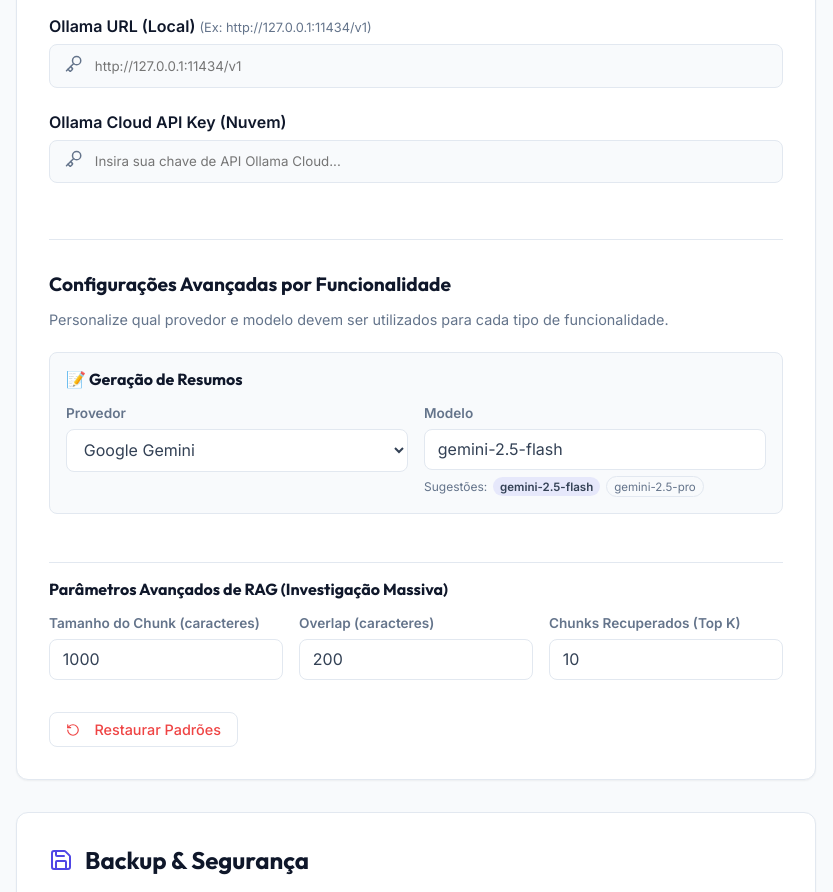
it: SettingsPage › pre-fills a current Claude model when a skill switches to Anthropic
(page scrolled)
Select "Anthropic" in the dropdown named "Provedor: 📝 Geração de Resumos" at point(237, 450), box [66, 428, 408, 472]
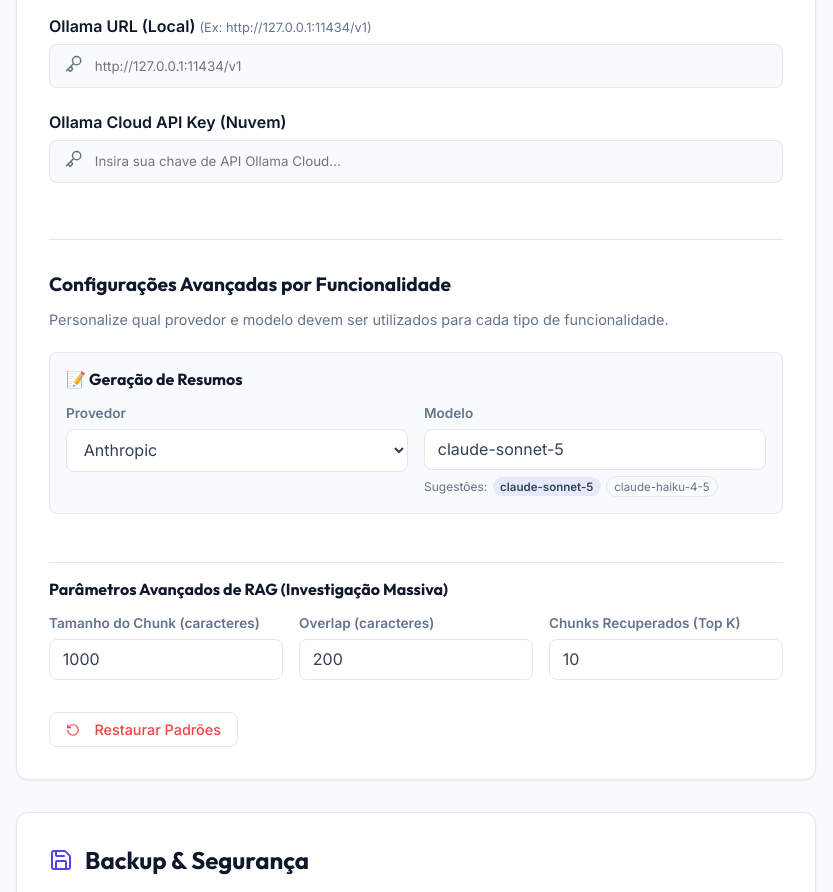
Now the field named "Modelo: 📝 Geração de Resumos" holds "claude-sonnet-5", box [424, 428, 766, 470]
